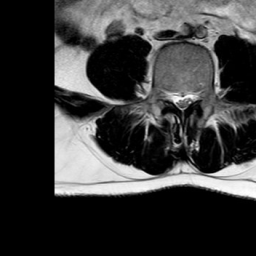CCS_normal: (178, 82, 186, 125)
LFS_normal: (194, 80, 203, 109)
LLS_normal: (186, 80, 194, 112)
RFS_normal: (162, 81, 170, 106)
RLS_normal: (170, 81, 178, 113)
